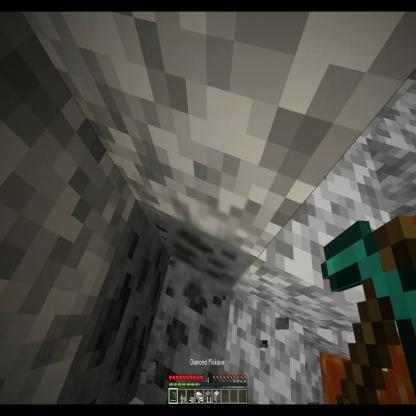coal ore: (56, 199, 171, 416), (134, 266, 234, 410), (138, 198, 250, 296)
